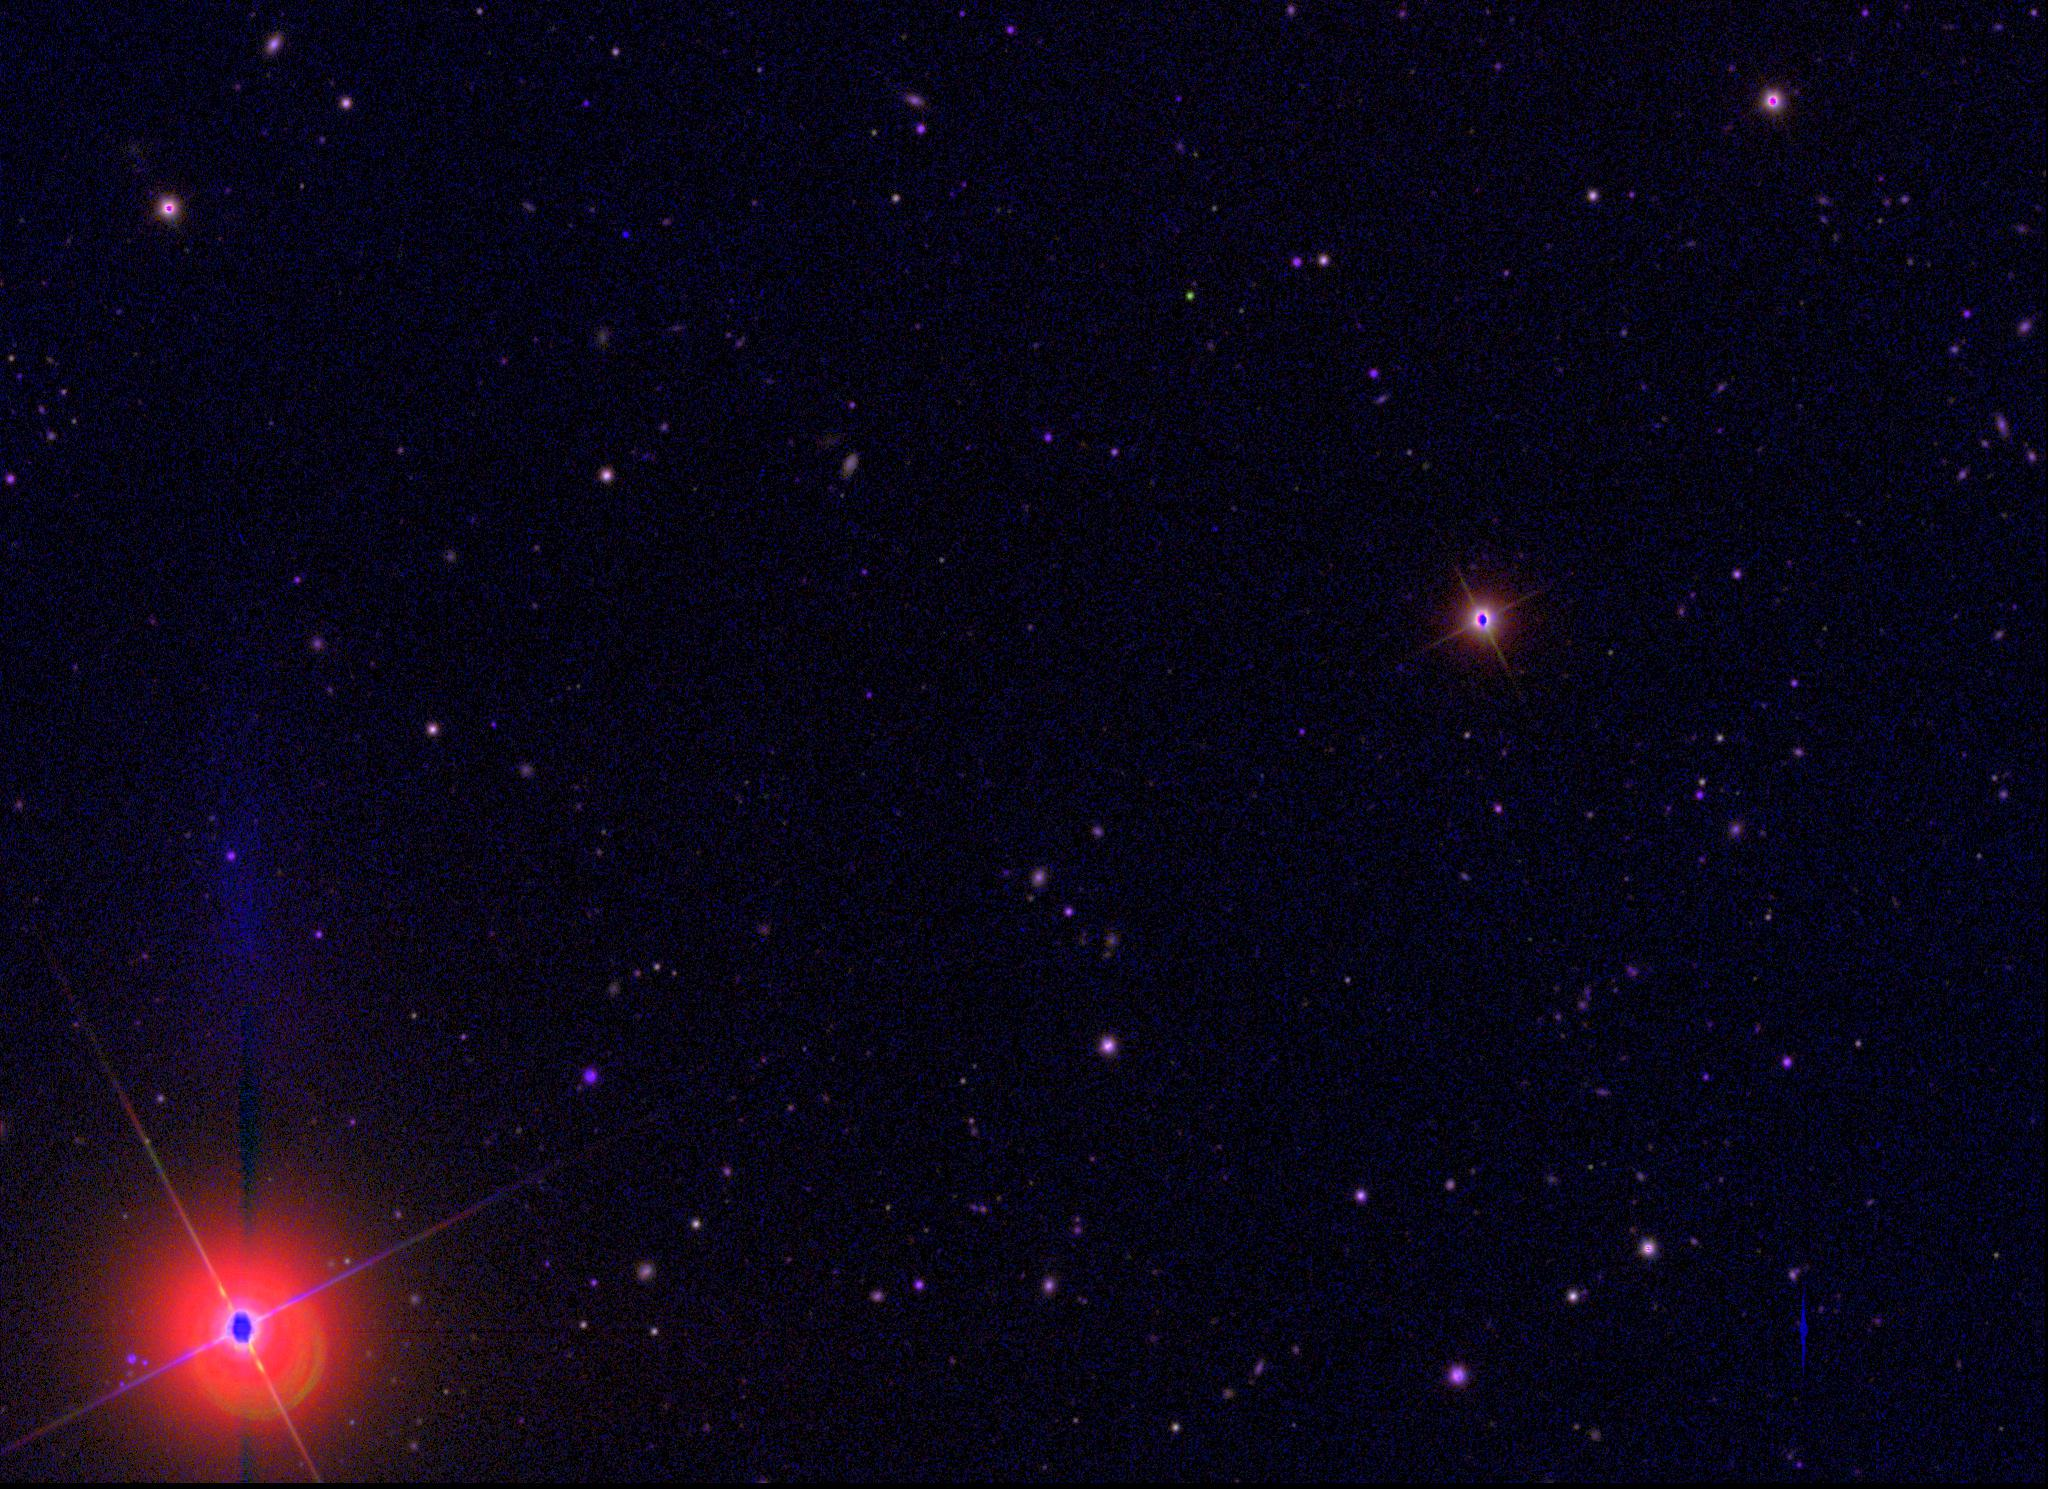L: (619, 227, 633, 240)
